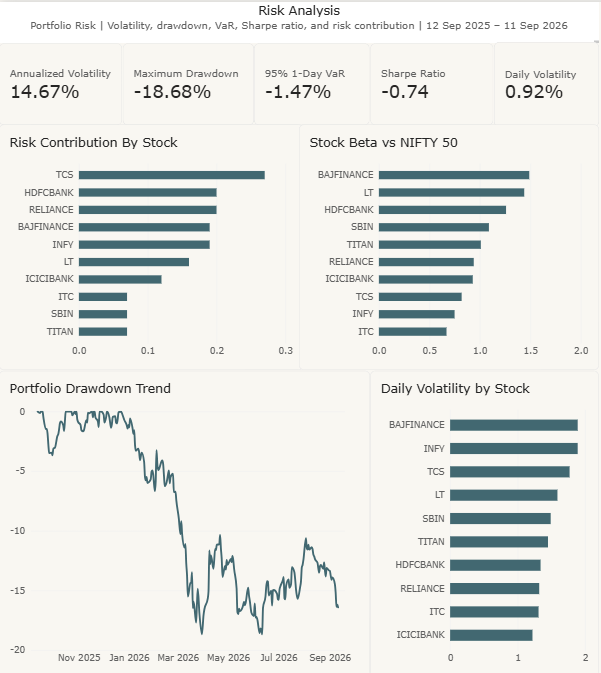

The dashboard page shown, as its layout file describes it:
{"tool":"powerbi","page":{"name":"Risk Analytics","canvas":[1920,1080],"ordinal":1},"visuals":[{"type":"textbox","title":"Risk Analysis","box":[0,0,960,65.3],"z":0},{"type":"cardVisual","fields":{"Data":["public vw_portfolio_daily.Annualized Volatility"]},"box":[0,65.3,197.9,131.6],"z":1000},{"type":"cardVisual","fields":{"Data":["public vw_portfolio_daily.Maximum Drawdown"]},"box":[197.9,65.3,210.5,131.6],"z":2000},{"type":"cardVisual","fields":{"Data":["public vw_portfolio_daily.95% 1-Day VaR"]},"box":[408.4,65.3,185.3,131.6],"z":3000},{"type":"cardVisual","fields":{"Data":["public vw_portfolio_daily.Sharpe Ratio"]},"box":[593.7,65.3,197.9,131.6],"z":4000},{"type":"cardVisual","fields":{"Data":["public vw_portfolio_daily.Daily Volatility"]},"box":[791.6,63.2,168.4,136.8],"z":5000},{"type":"clusteredBarChart","title":"Risk Contribution By Stock ","fields":{"Category":["public vw_risk_contribution.symbol"],"Y":["Sum(public vw_risk_contribution.risk_contribution_pct)"]},"box":[0,196.8,487.4,392.6],"z":6000},{"type":"clusteredBarChart","title":"Stock Beta vs NIFTY 50","fields":{"Category":["public vw_stock_beta.symbol"],"Y":["Sum(public vw_stock_beta.beta)"]},"box":[480,196.8,480,392.6],"z":7000},{"type":"clusteredBarChart","title":"Daily Volatility by Stock","fields":{"Category":["public vw_risk_contribution.symbol"],"Y":["Sum(public vw_risk_contribution.daily_volatility_pct)"]},"box":[593.8,589.7,366,490.7],"z":8000},{"type":"lineChart","title":"Portfolio Drawdown Trend","fields":{"Category":["public vw_portfolio_drawdown.trade_date"],"Y":["Sum(public vw_portfolio_drawdown.drawdown_pct)"]},"box":[0,589.7,593.8,490.7],"z":9000}]}

Visuals, with their boxes on the page's 1920x1080 design canvas (x1, y1, x2, y2). These are canvas units, not pixel positions in the 601x673 screenshot, which may show the page scaled, cropped or inside an application window:
"Risk Analysis" textbox: bbox=(0, 0, 960, 65)
cardVisual - public vw_portfolio_daily.Annualized Volatility: bbox=(0, 65, 198, 197)
cardVisual - public vw_portfolio_daily.Maximum Drawdown: bbox=(198, 65, 408, 197)
cardVisual - public vw_portfolio_daily.95% 1-Day VaR: bbox=(408, 65, 594, 197)
cardVisual - public vw_portfolio_daily.Sharpe Ratio: bbox=(594, 65, 792, 197)
cardVisual - public vw_portfolio_daily.Daily Volatility: bbox=(792, 63, 960, 200)
"Risk Contribution By Stock " clusteredBarChart: bbox=(0, 197, 487, 589)
"Stock Beta vs NIFTY 50" clusteredBarChart: bbox=(480, 197, 960, 589)
"Daily Volatility by Stock" clusteredBarChart: bbox=(594, 590, 960, 1080)
"Portfolio Drawdown Trend" lineChart: bbox=(0, 590, 594, 1080)
